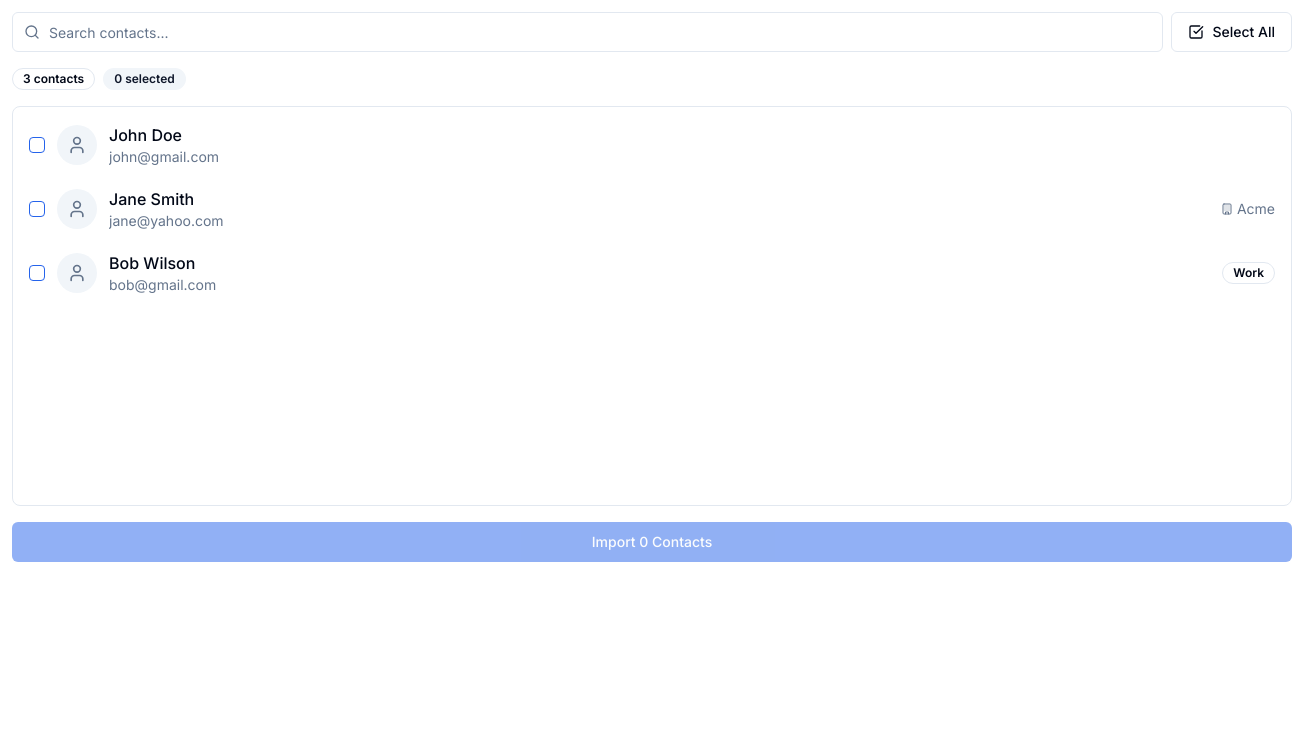
Test: ContactSelector › updates selected count when contact is clicked
This screenshot has width=1304, height=732.
Step 1. Click the text "John Doe" → (124, 145), box [29,125,219,165]
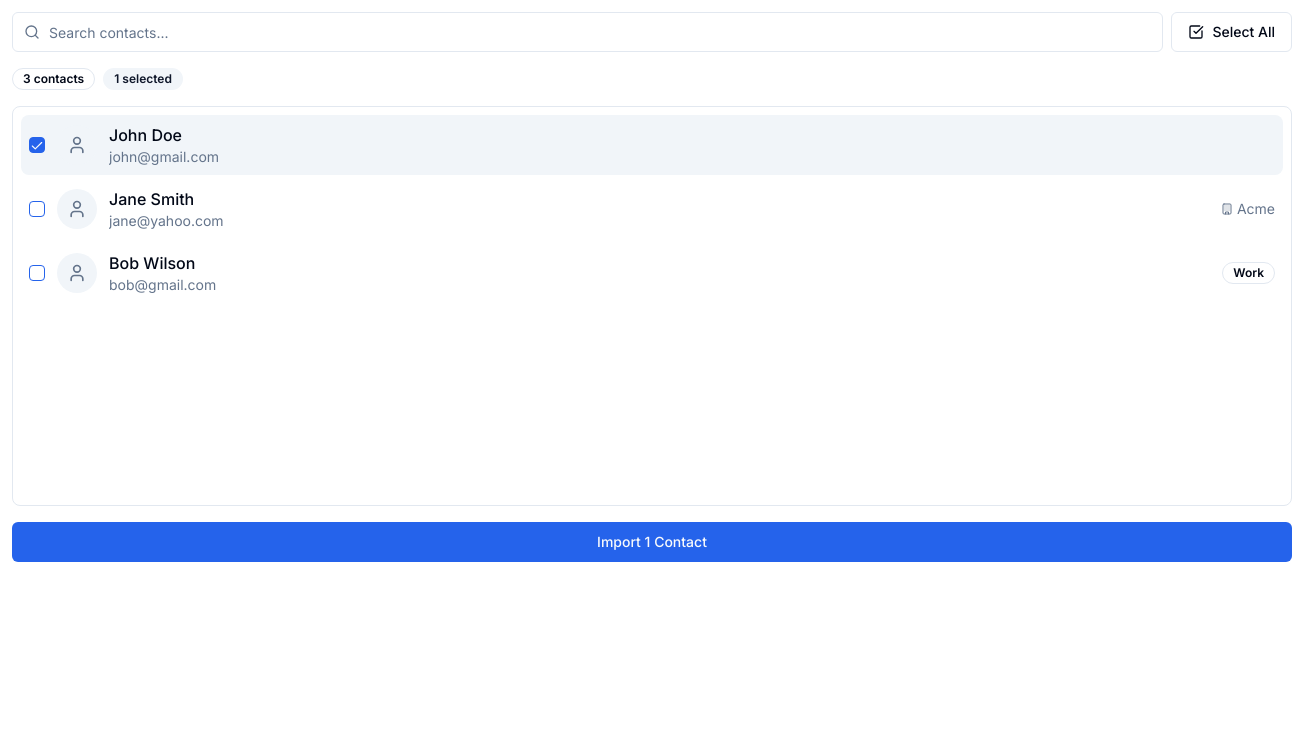
Check: the text "1 selected" is shown, box [103,68,183,90]
